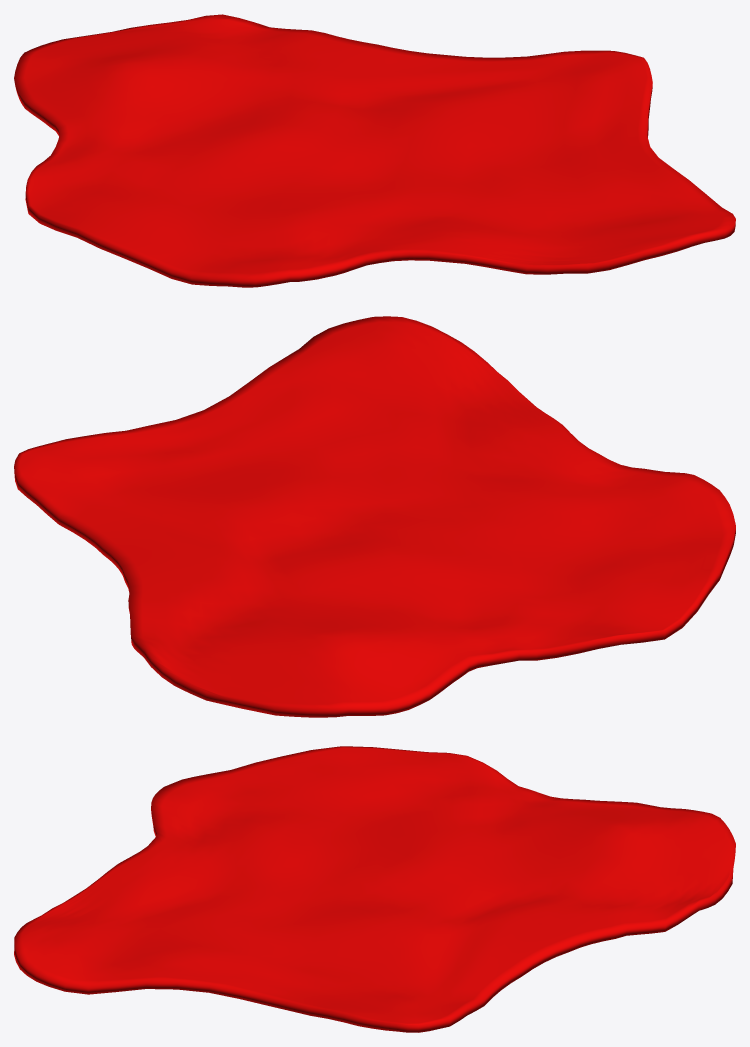
The model's file is ketchupplama.fbx.
The picture shows the model from 3 angles, top to bottom: view 1: azimuth 30°, elevation 25°; view 2: azimuth 150°, elevation 25°; view 3: azimuth 270°, elevation 25°; orthographic projection. The views are drawn at different scales.
Visible parts, largest first — view 1: Circle; view 2: Circle; view 3: Circle.
Part boxes in pixels (x1,y1,x2,y2): Circle: (14, 14, 735, 287); Circle: (14, 316, 735, 717); Circle: (14, 746, 735, 1032).
Bounding box in the file's own units: 240 × 11.29 × 259.
